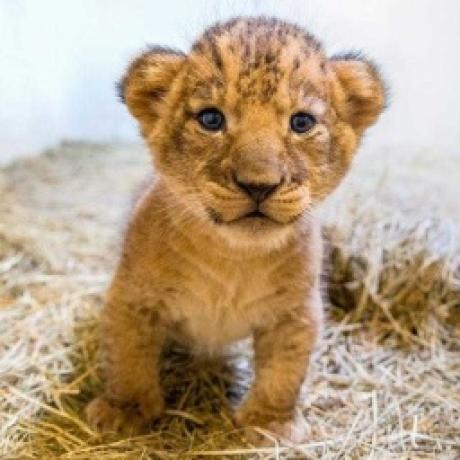Lion: (100, 16, 388, 424)
